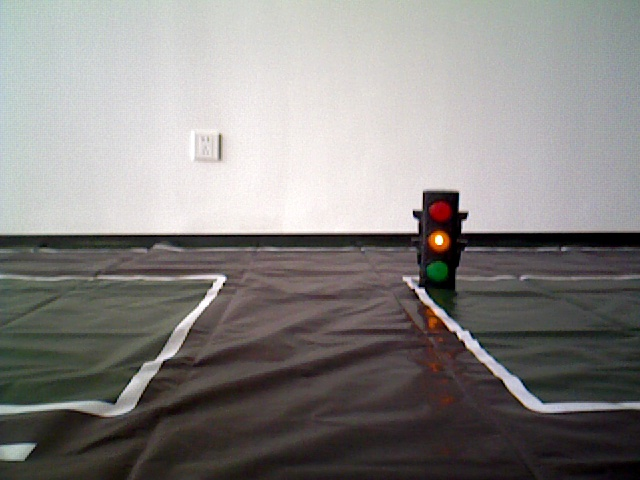yellow: (422, 188, 460, 282)
